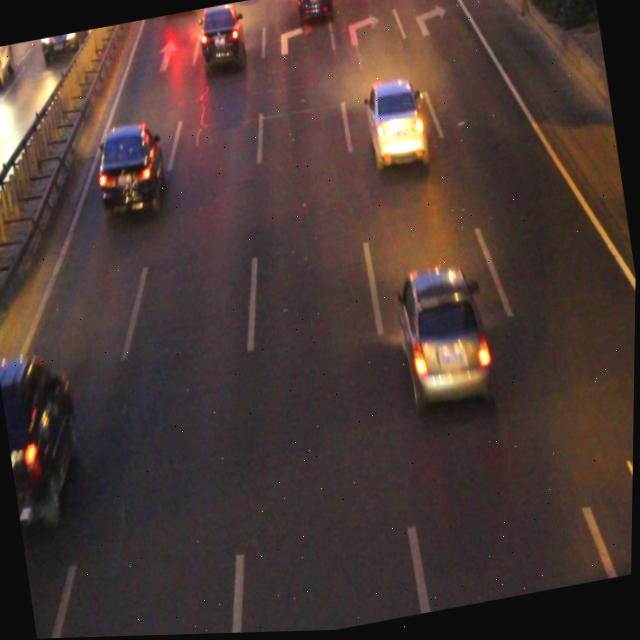car: (0, 346, 91, 524), (393, 265, 495, 408), (94, 123, 170, 213), (361, 82, 428, 171), (196, 3, 246, 68), (295, 0, 331, 22)
